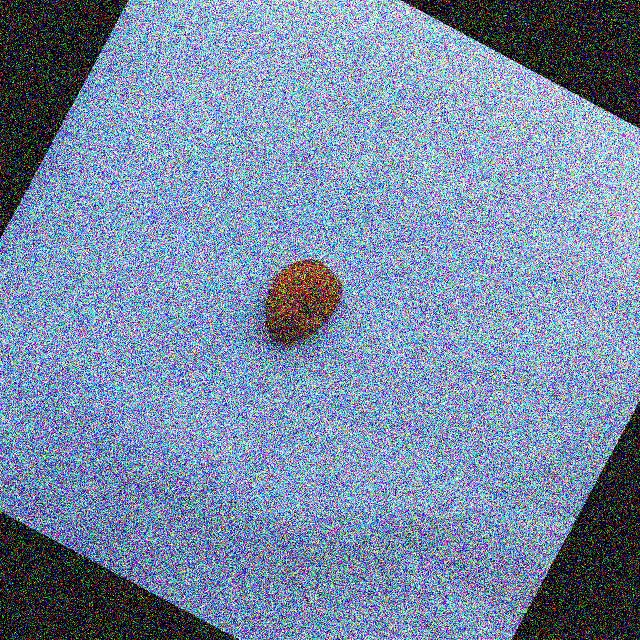grade3: (246, 242, 358, 365)
